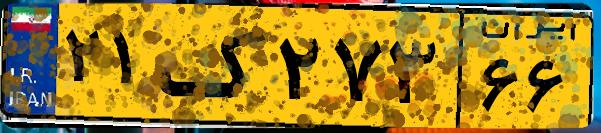1: (110, 28, 158, 98)
2: (270, 28, 330, 110), (57, 26, 110, 100)
3: (385, 28, 445, 110)
6: (475, 38, 525, 113), (525, 38, 570, 115)
7: (330, 28, 385, 110)
ک: (158, 12, 270, 120)
